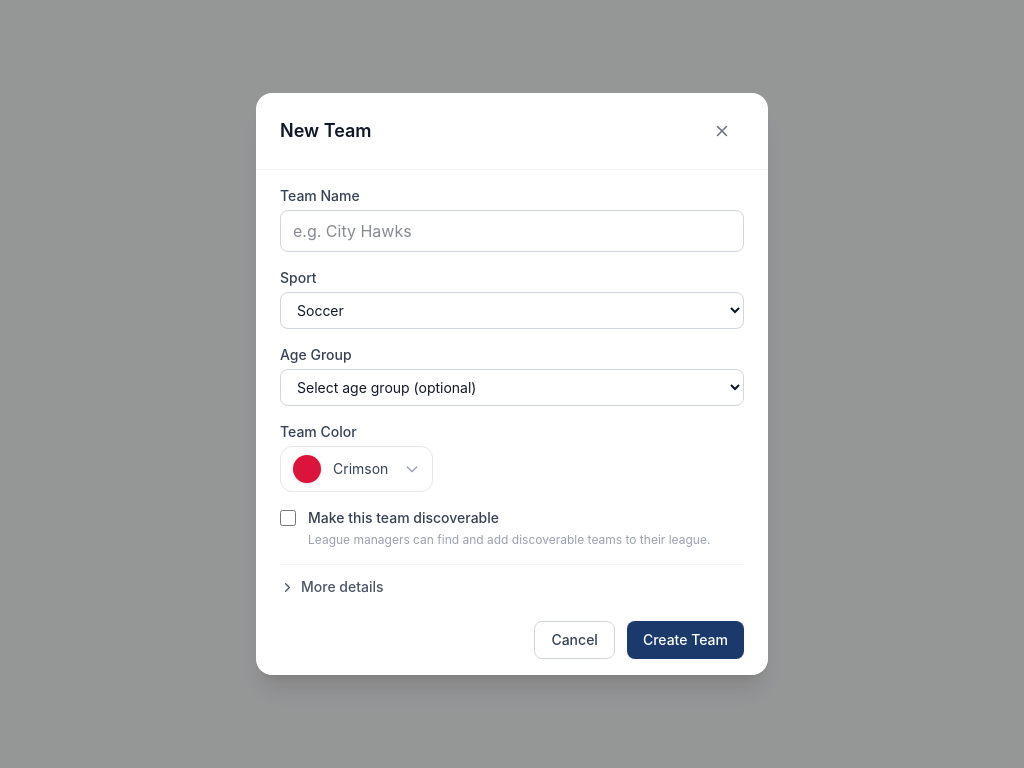
Test: TeamForm — advanced section toggle interaction › expands the section and reveals coach fields when "More details" is clicked
Expected: the field labelled "coach name" is not shown
Click the button "More details" at (332, 587), box [280,577,384,597]
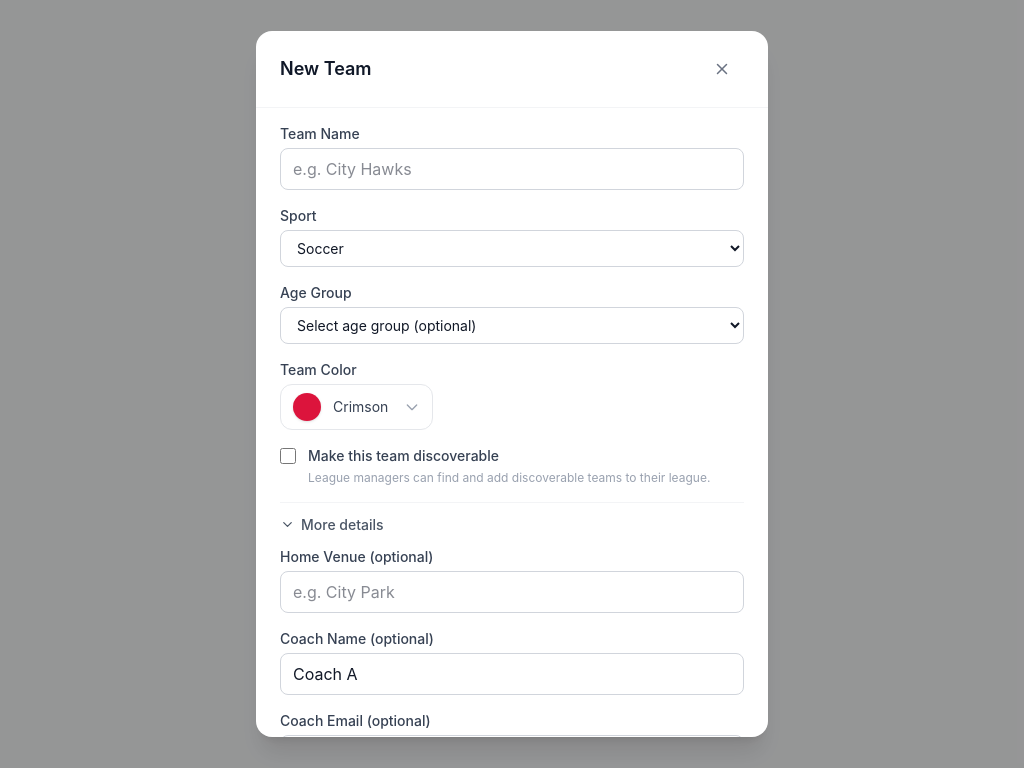
Expected: the field labelled "Coach Name (optional)" is shown, [280,653,744,695]
